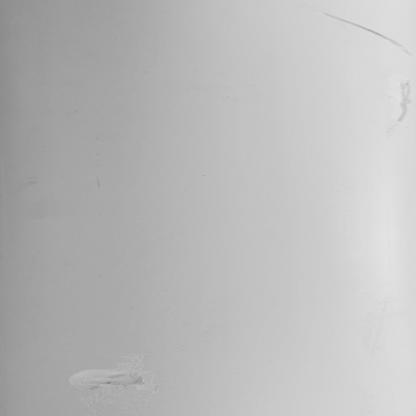sunshang: (58, 356, 154, 416), (324, 10, 416, 56), (385, 74, 416, 130)
